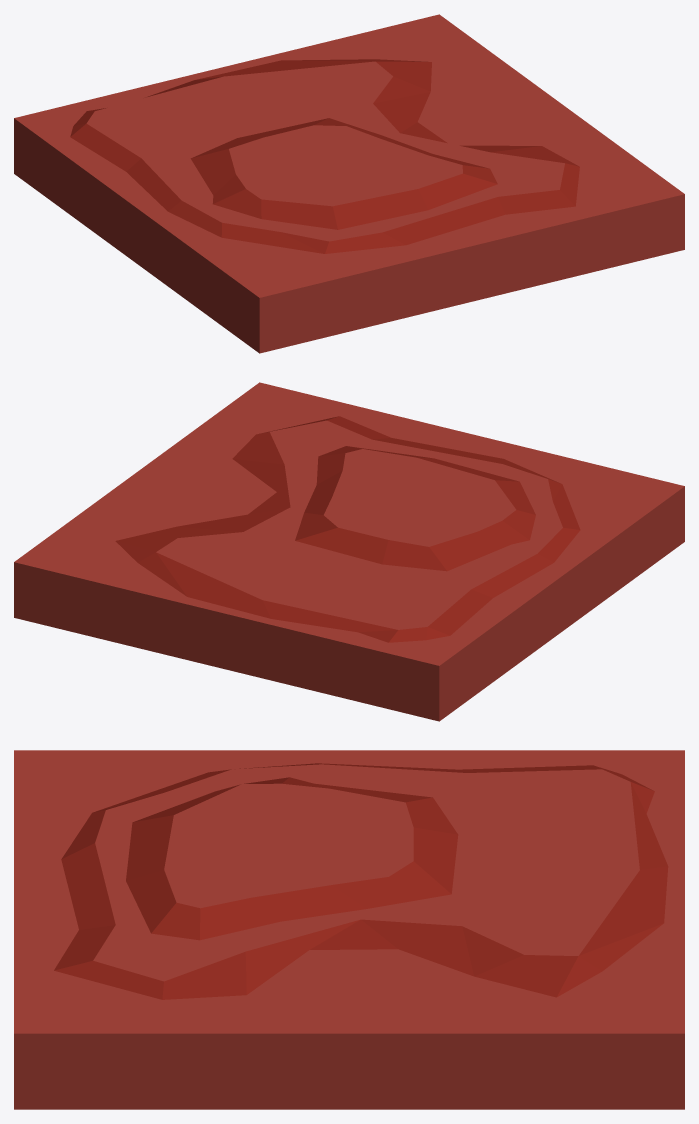
File: Field_1.fbx
3 views of the same model, one above another, from view 1: azimuth 30°, elevation 25°; view 2: azimuth 150°, elevation 25°; view 3: azimuth 270°, elevation 25° (orthographic). The views are drawn at different scales.
Visible parts, largest first — view 1: Plane.007; view 2: Plane.007; view 3: Plane.007.
Part boxes in pixels (left/top/right/bottom): Plane.007: left=14, top=14, right=684, bottom=353; Plane.007: left=14, top=382, right=684, bottom=721; Plane.007: left=14, top=750, right=684, bottom=1109.
Size of the model in its own units: 400 by 64.99 by 400.
